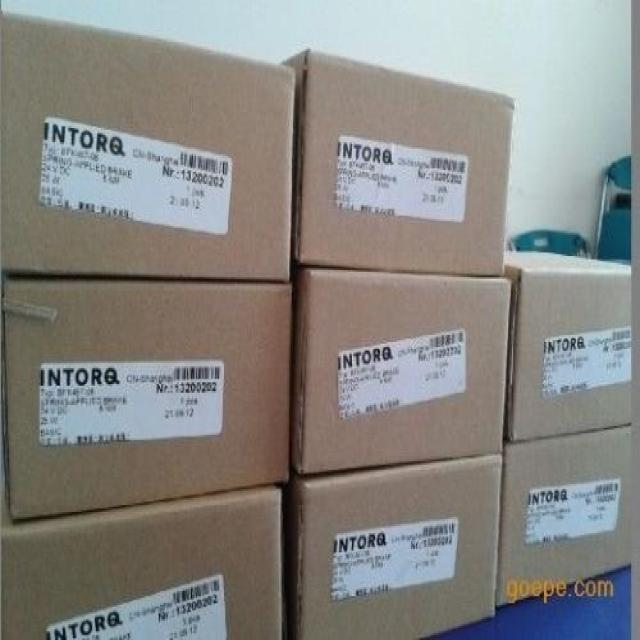box: (1, 11, 293, 282), (4, 275, 291, 523), (280, 47, 517, 279), (289, 263, 507, 473), (1, 484, 282, 638), (282, 452, 503, 638), (504, 251, 632, 442), (497, 424, 632, 605)
